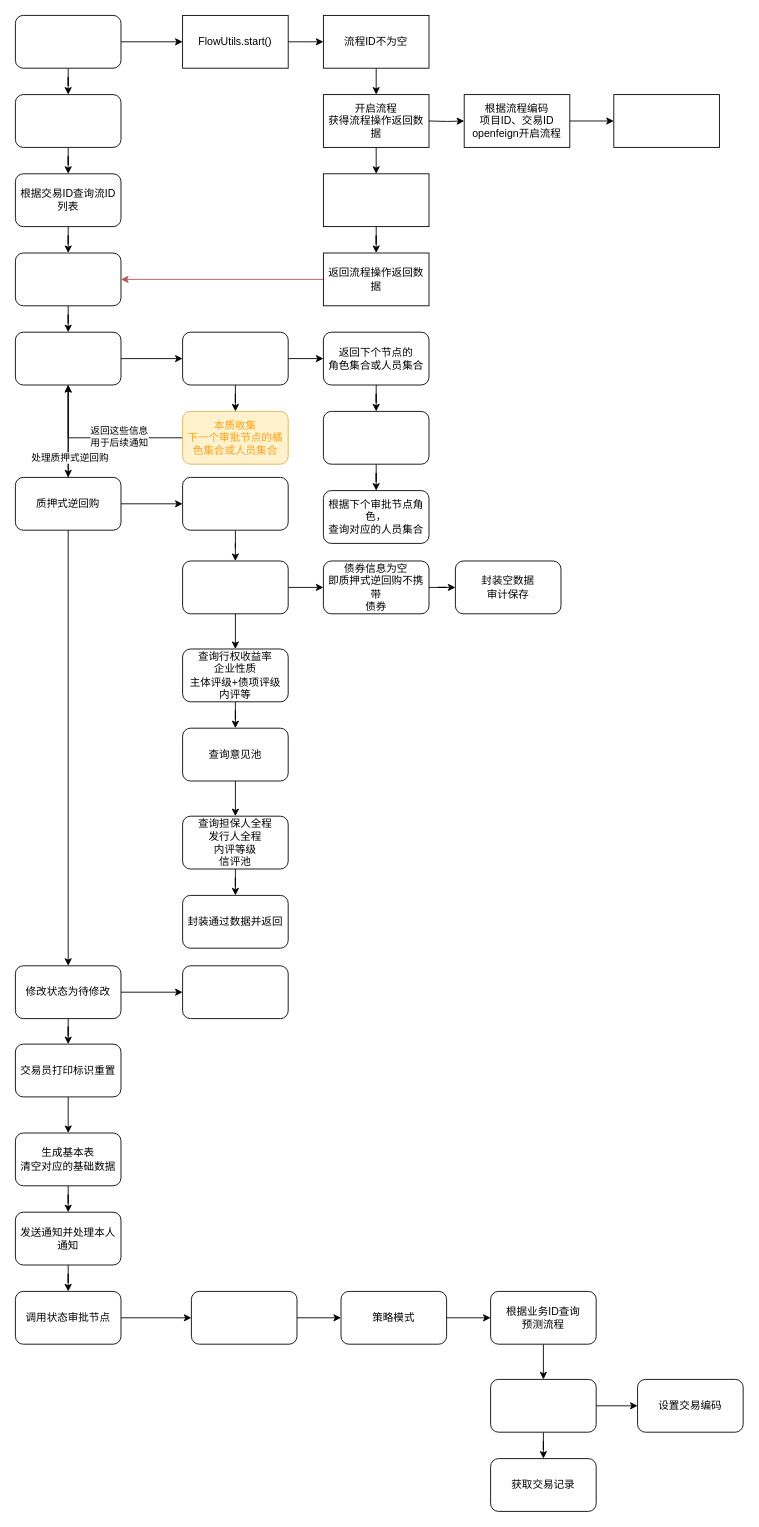
Image size: 759x1527. Some labels were removed from this diagram. Here are the shapes that lost their labels. From the top down, the centre of each, then its label:
the point at 68,41: 信评审批 开启流程
the point at 68,120: 更新流程关联表 历史信息表
the point at 666,120: redis加锁开启流程
the point at 376,200: 流程历史交易数据 更新/入库
the point at 68,279: 流节点返回数据封装成其他数据类型
the point at 68,358: 发送通知 人员id：从流节点获取
the point at 235,358: next()
the point at 376,437: 获取下个审批节点 的角色信息
the point at 235,503: 查询流程历史记录 审核意见包含“”豁免“”
the point at 235,587: 处理质押式回购的 审批数据 并保存
the point at 235,992: 这个好像只有现券和一级交易的逻辑
the point at 244,1317: 预提交
the point at 543,1405: 查询交易员 审批员 预测数据
